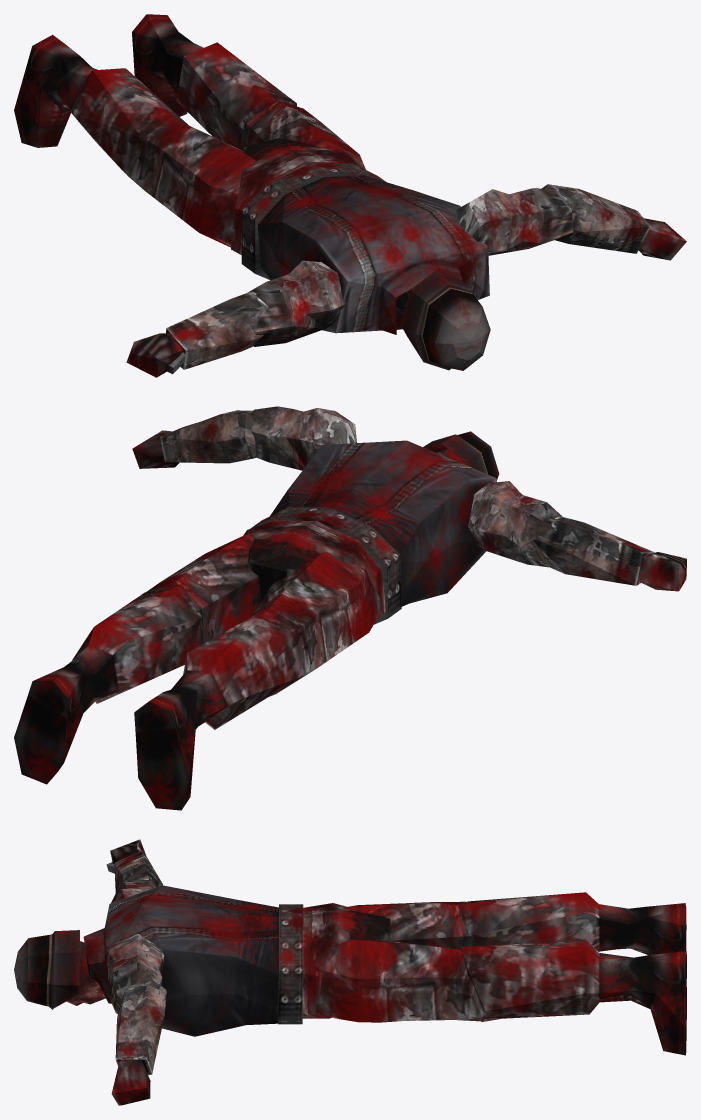
Rendered from swatzombieTB_wtf.obj.
The picture shows the model from 3 angles, top to bottom: view 1: azimuth 30°, elevation 25°; view 2: azimuth 150°, elevation 25°; view 3: azimuth 270°, elevation 25°; orthographic projection. The views are drawn at different scales.
Visible parts, largest first — view 1: group3, group11, group12, group9, group6, group17, group7, group14, group13, group18, group1, group2 (+4 smaller); view 2: group3, group12, group9, group11, group8, group13, group10, group1, group14, group7, group17, group18 (+4 smaller); view 3: group3, group9, group8, group12, group1, group6, group11, group18, group10, group2, group17, group13 (+5 smaller).
Boxes of the visible parts, bbox=[...] form: group3: bbox=[257, 175, 489, 334]; group11: bbox=[127, 122, 255, 247]; group12: bbox=[41, 56, 188, 174]; group9: bbox=[150, 32, 296, 147]; group6: bbox=[400, 271, 490, 370]; group17: bbox=[456, 188, 573, 255]; group7: bbox=[247, 260, 346, 346]; group14: bbox=[166, 291, 268, 369]; group13: bbox=[14, 34, 80, 147]; group18: bbox=[542, 184, 650, 253]; group1: bbox=[231, 138, 362, 254]; group2: bbox=[241, 163, 385, 280]; group3: bbox=[270, 440, 496, 606]; group12: bbox=[163, 604, 301, 729]; group9: bbox=[64, 584, 201, 712]; group11: bbox=[248, 552, 383, 690]; group8: bbox=[146, 534, 261, 649]; group13: bbox=[134, 692, 195, 810]; group10: bbox=[14, 667, 83, 784]; group1: bbox=[243, 520, 385, 618]; group14: bbox=[531, 516, 654, 585]; group7: bbox=[468, 481, 562, 567]; group17: bbox=[251, 406, 356, 470]; group18: bbox=[160, 410, 256, 463]; group3: bbox=[83, 885, 278, 1036]; group9: bbox=[460, 940, 655, 1021]; group8: bbox=[316, 939, 486, 1022]; group12: bbox=[460, 892, 655, 955]; group1: bbox=[302, 903, 390, 1018]; group6: bbox=[14, 930, 79, 1009]; group11: bbox=[344, 901, 476, 949]; group18: bbox=[115, 979, 166, 1075]; group10: bbox=[648, 951, 686, 1055]; group2: bbox=[277, 904, 303, 1024]; group17: bbox=[107, 933, 164, 1013]; group13: bbox=[648, 903, 686, 954].
Size of the model in its own units: 556 by 137 by 660.
